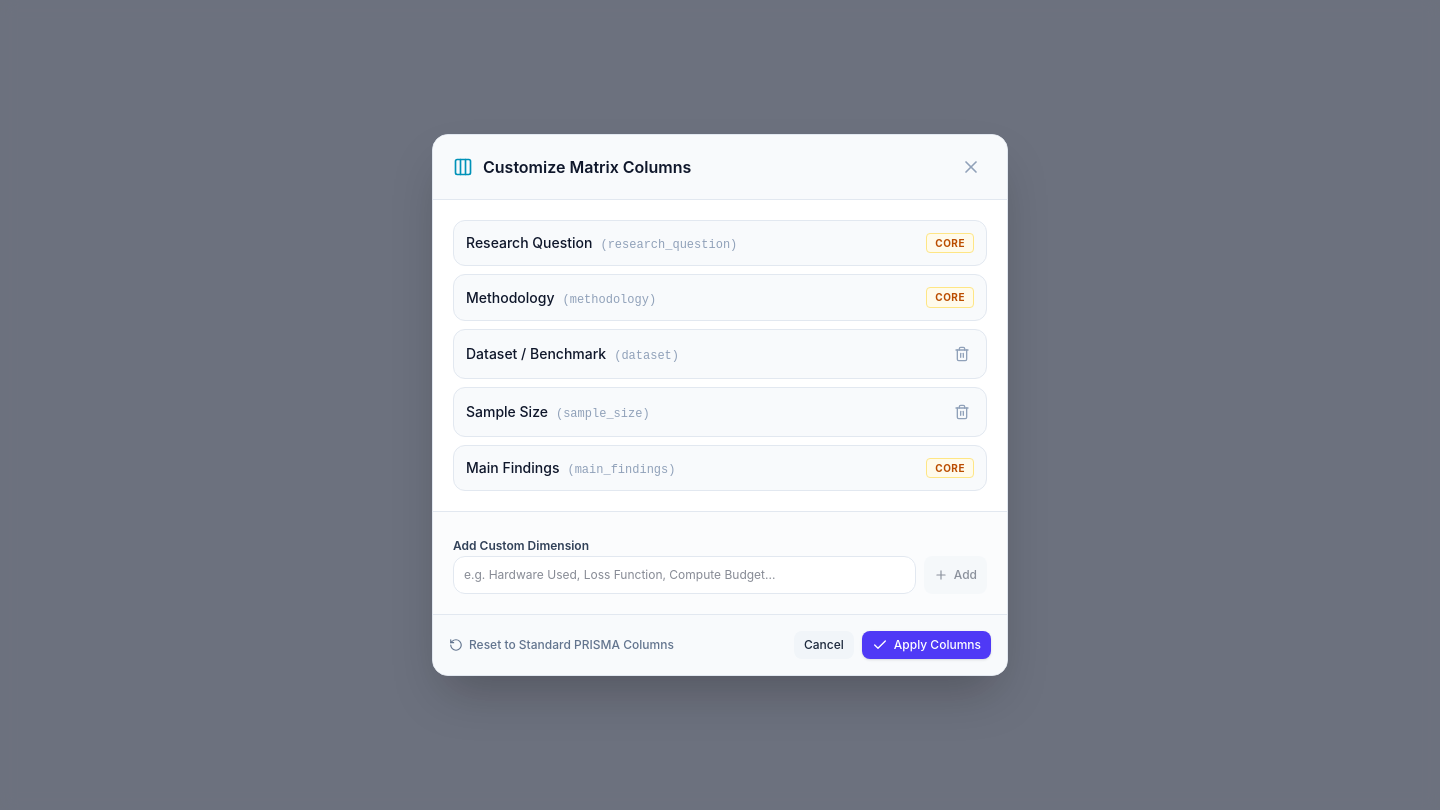
Test case: Literature Review Matrix & Evidence-Linked Copilot Suite › renders ColumnConfigModal and allows adding a custom dimension
Expected: the heading "Customize Matrix Columns" is shown, [483, 155, 691, 179]
Expected: the text "Research Question" is shown, [466, 234, 592, 251]
// Add custom column
Type "Hardware Architecture" into the field with placeholder "e.g. Hardware Used, Loss Function, Compute Budget..." at (684, 575), box [453, 556, 916, 594]
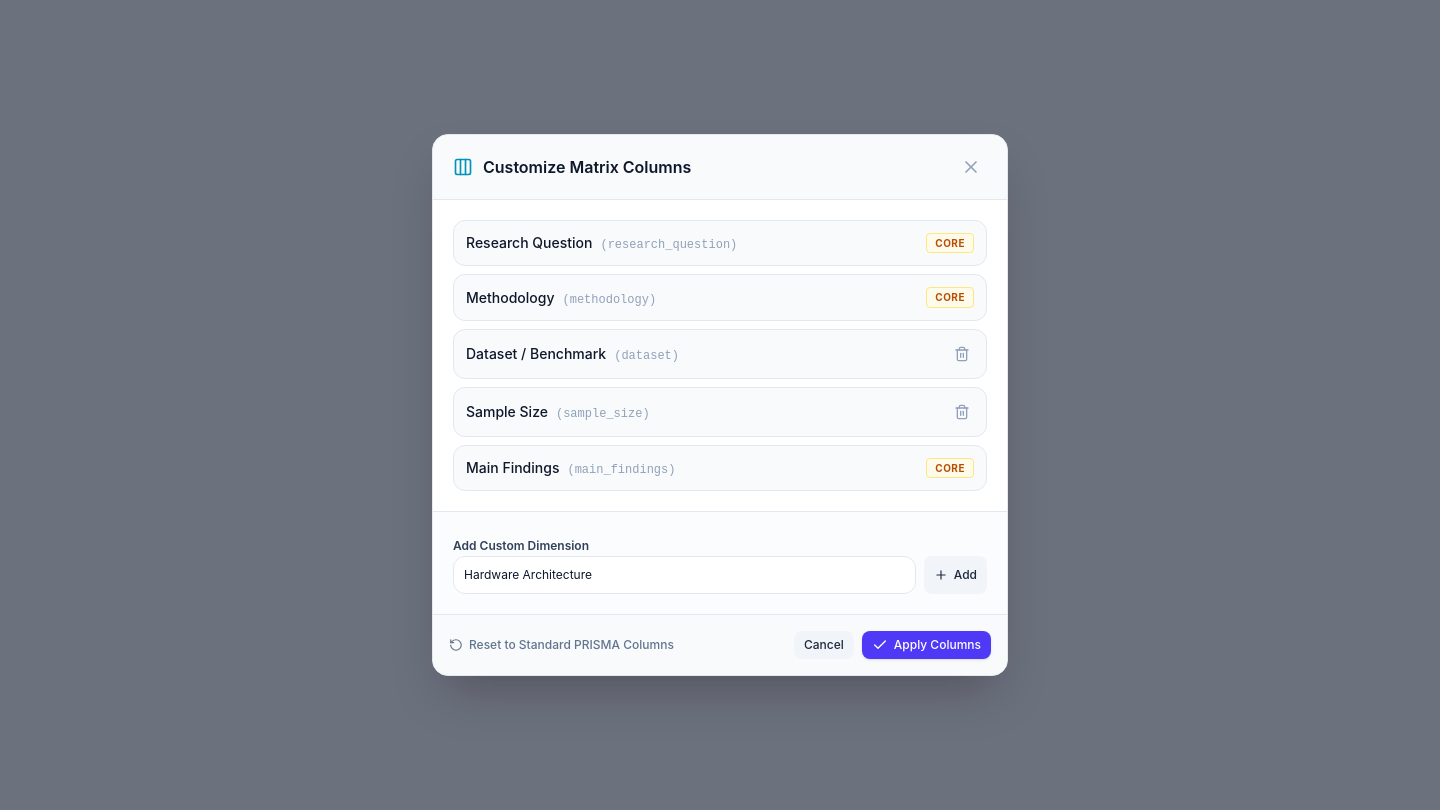
Click the button "Add" at (955, 575), box [924, 556, 987, 594]
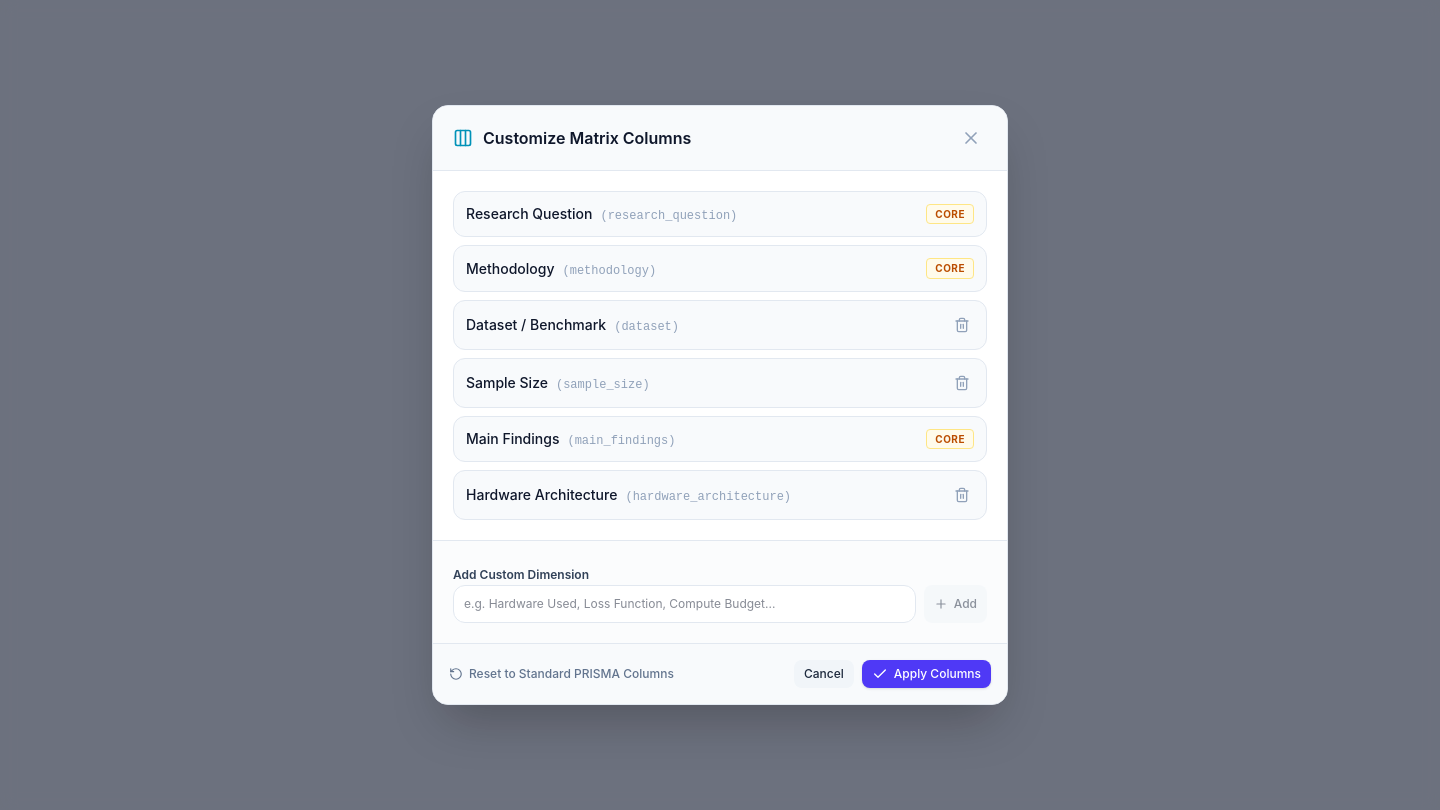
Result: the text "Hardware Architecture" is shown at [466, 486, 617, 503]
